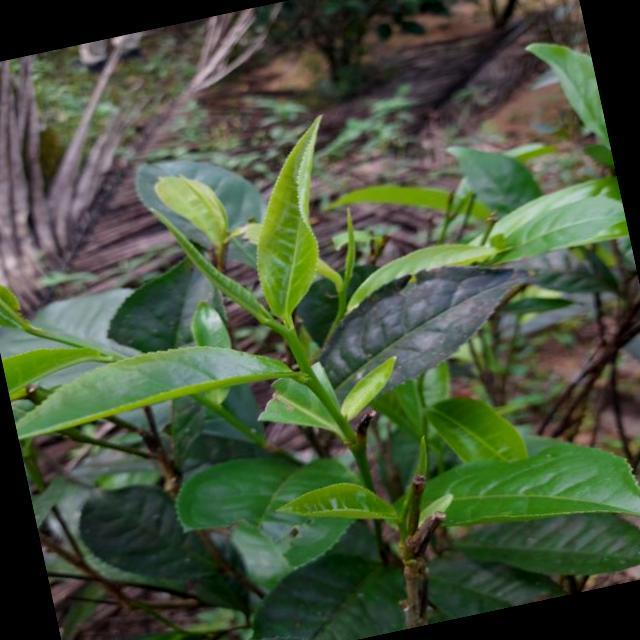Stem: (282, 328, 300, 347), (338, 291, 346, 299)
